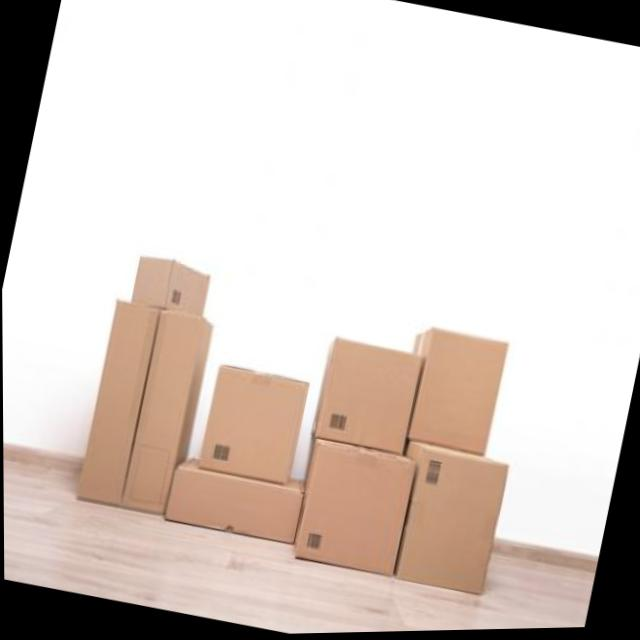box: (51, 291, 222, 554), (378, 434, 521, 617), (283, 434, 424, 596), (391, 314, 517, 470), (190, 341, 320, 485), (306, 321, 434, 465), (157, 455, 302, 562), (115, 226, 217, 331)
